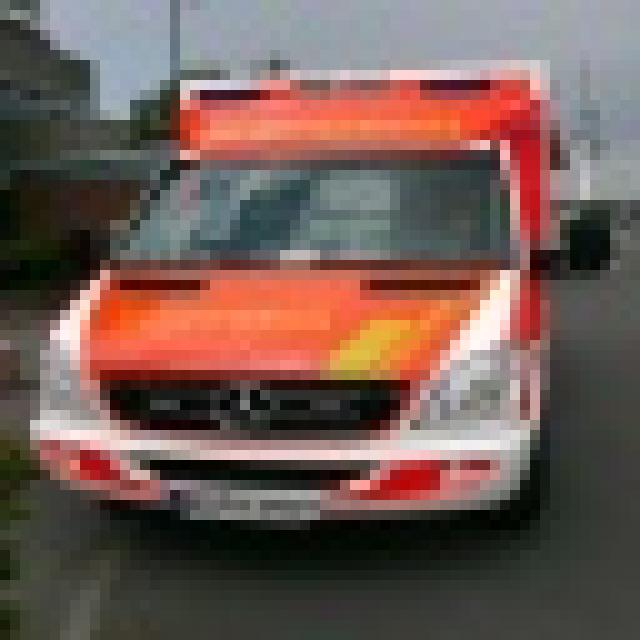Ambulance: (20, 50, 610, 530)
